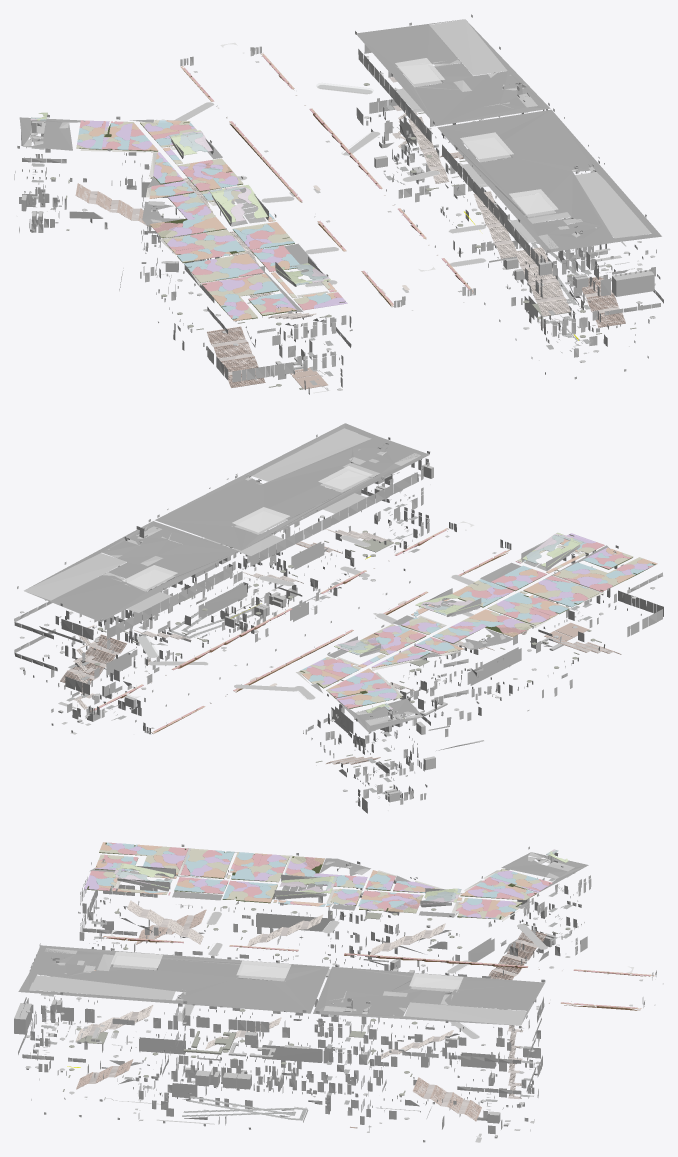
File: e16-arq-0000-web-ue-0.glb
3 renders of one model, top to bottom at view 1: azimuth 30°, elevation 25°; view 2: azimuth 150°, elevation 25°; view 3: azimuth 270°, elevation 25°, orthographic. The views are drawn at different scales.
Bounding box in the file's own units: 130 × 37.94 × 168.
